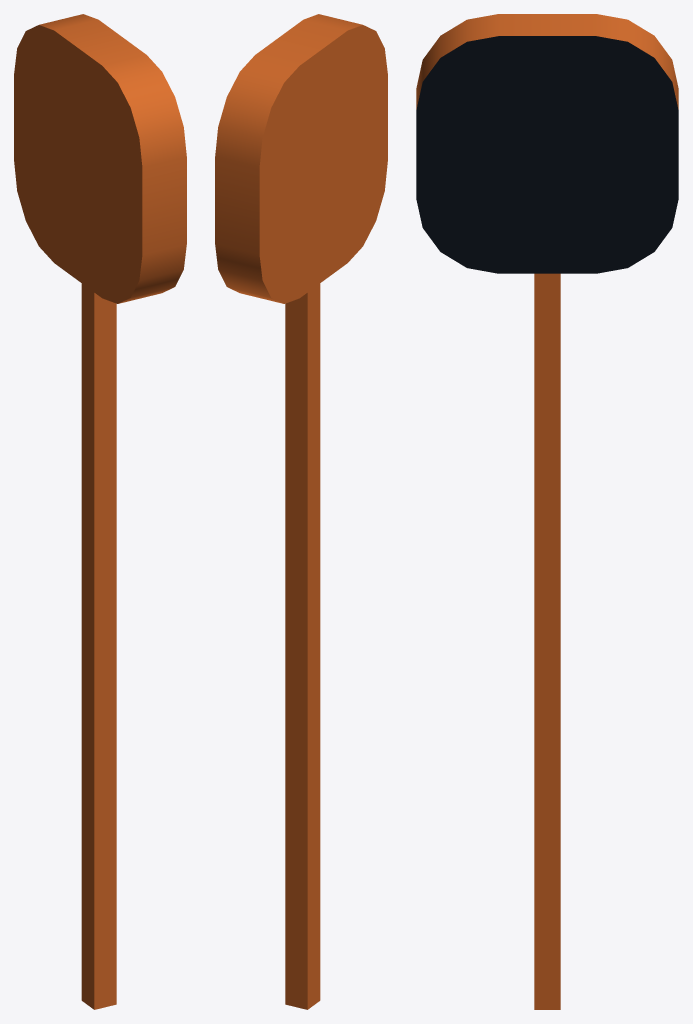
Rendered from Counter Display.fbx.
The picture shows the model from 3 angles, left to right: view 1: azimuth 30°, elevation 25°; view 2: azimuth 150°, elevation 25°; view 3: azimuth 270°, elevation 25°; orthographic projection. The views are drawn at different scales.
Parts seen in each view (by area): view 1: Counter display, Counter Stand; view 2: Counter display, Counter Stand; view 3: Counter display, Counter Stand.
Boxes of the visible parts, left/top/right/bottom form: Counter display: left=14, top=14, right=186, bottom=303; Counter Stand: left=81, top=283, right=116, bottom=1009; Counter display: left=215, top=14, right=387, bottom=303; Counter Stand: left=285, top=283, right=320, bottom=1009; Counter display: left=416, top=14, right=678, bottom=273; Counter Stand: left=534, top=273, right=560, bottom=1009.
Size of the model in its own units: 6.4 by 132 by 32.
